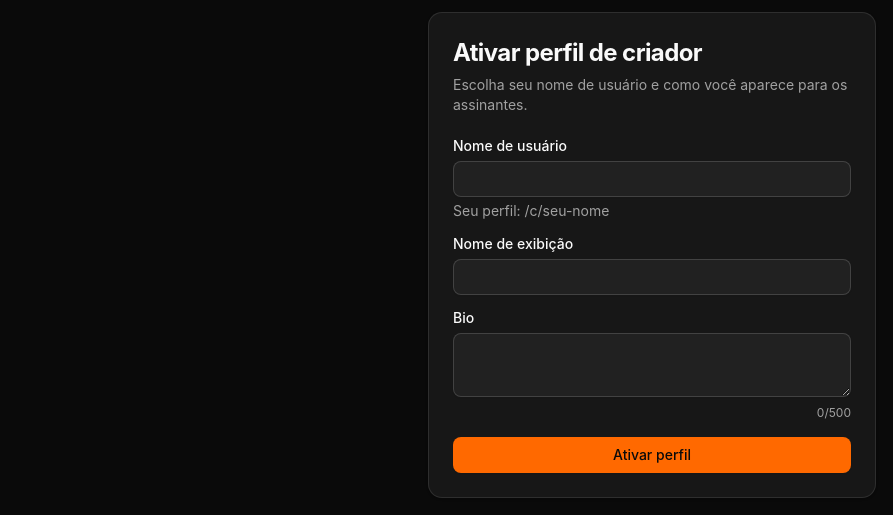
Test: ActivateCreatorPage › posts the normalized handle and navigates to the public page
This screenshot has width=893, height=515.
Type "  DaVi " into the field labelled "Nome de usuário" at [652, 179], box [453, 161, 851, 197]
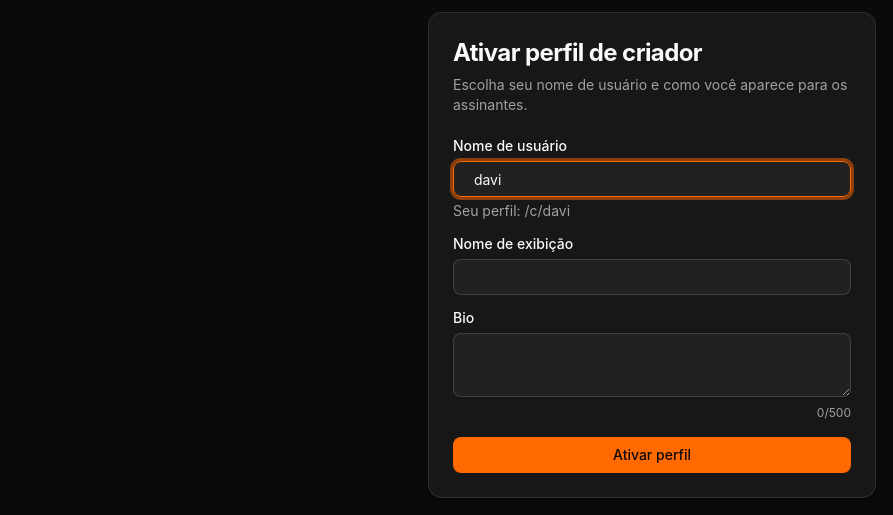
Type "Davi Lima" into the field labelled "Nome de exibição" at [652, 277], box [453, 259, 851, 295]
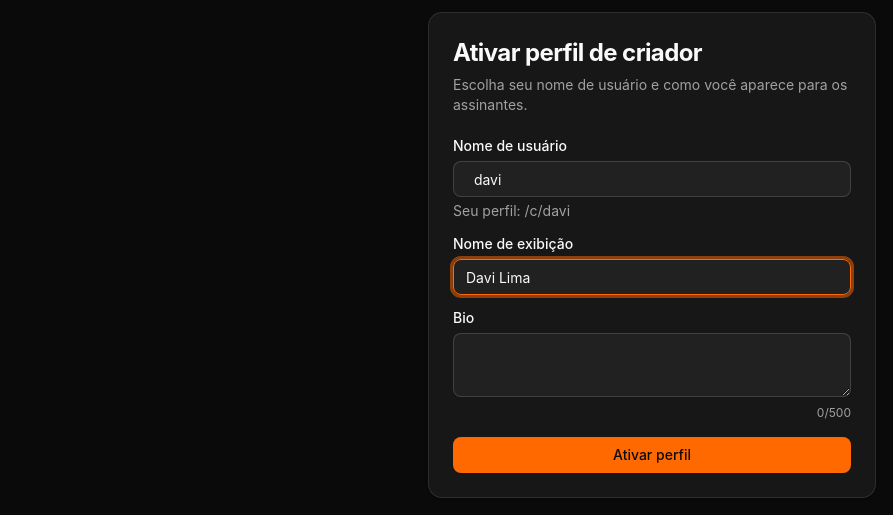
Click the button "Ativar perfil" at [652, 455], box [453, 437, 851, 473]
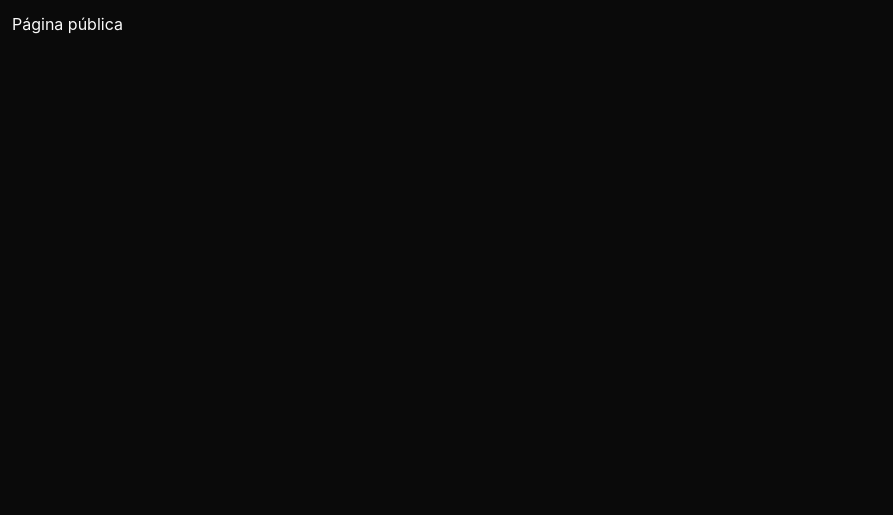
Now the text "Página pública" is shown, box [12, 14, 123, 34]
